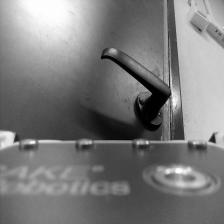Door Handle: (100, 46, 172, 132)
